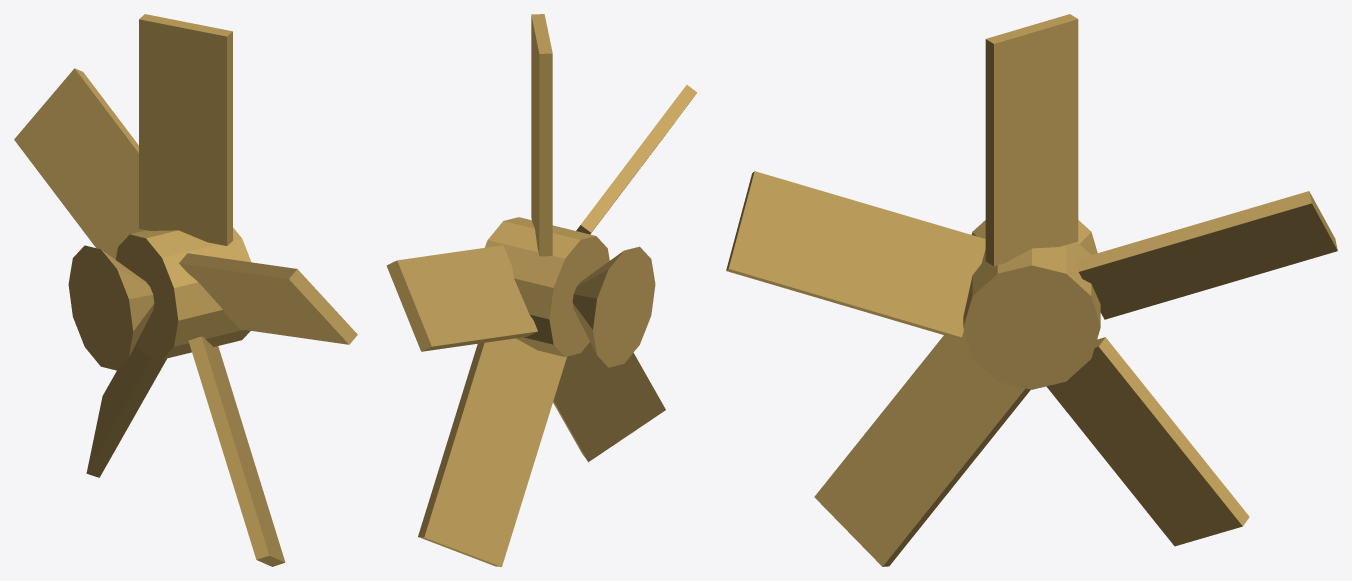
The model's file is SM_Sub_Propeller.fbx.
3 renders of one model, left to right at view 1: azimuth 30°, elevation 25°; view 2: azimuth 150°, elevation 25°; view 3: azimuth 270°, elevation 25°, orthographic. The views are drawn at different scales.
Parts seen in each view (by area): view 1: SM_Sub_Propeller; view 2: SM_Sub_Propeller; view 3: SM_Sub_Propeller.
Boxes of the visible parts, x1=… form: SM_Sub_Propeller: x1=14, y1=14, x2=357, y2=566; SM_Sub_Propeller: x1=386, y1=14, x2=697, y2=566; SM_Sub_Propeller: x1=726, y1=14, x2=1337, y2=566.
Bounding box in the file's own units: 0.625 × 2.37 × 2.49.
